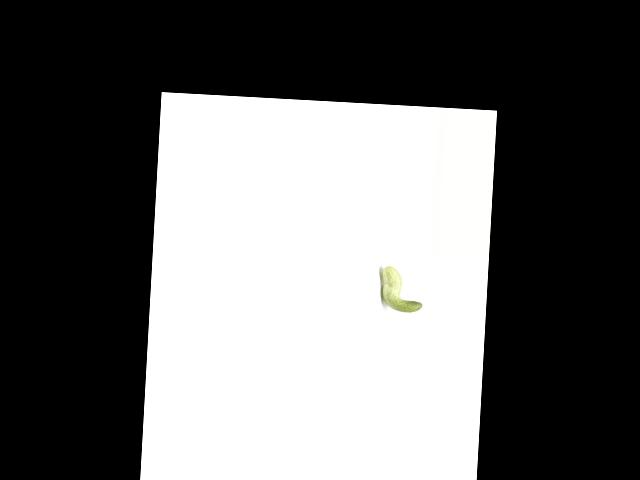cucumber: (379, 266, 423, 313)
